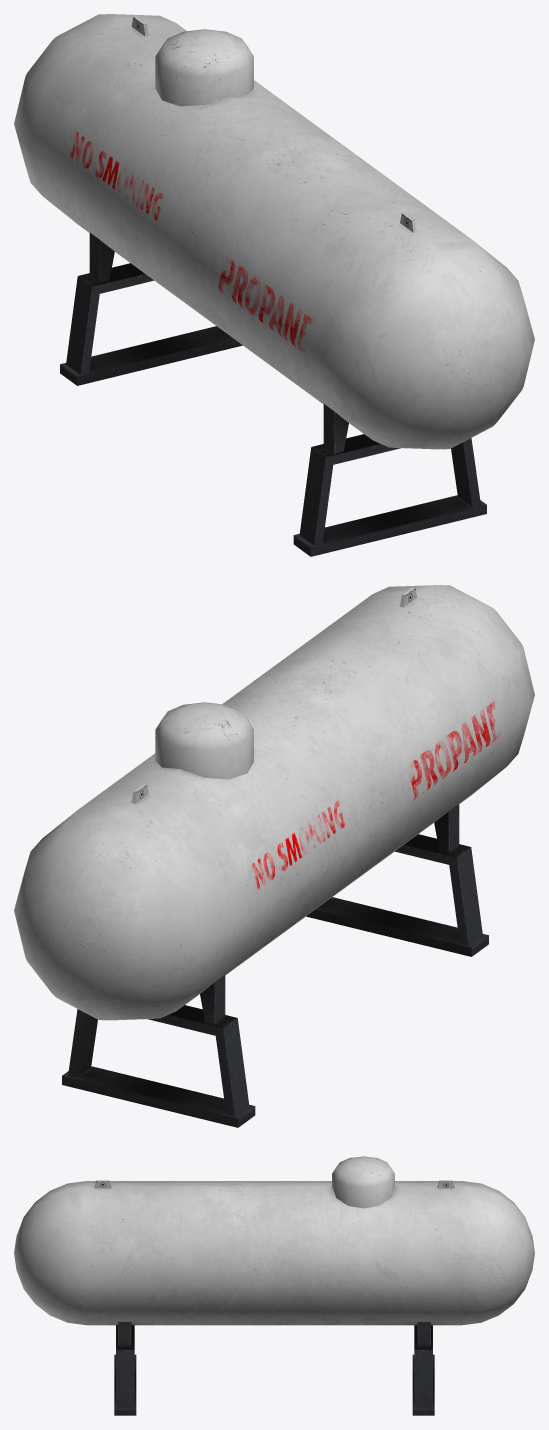
Rendered from propane_tank.glb.
The picture shows the model from 3 angles, top to bottom: view 1: azimuth 30°, elevation 25°; view 2: azimuth 150°, elevation 25°; view 3: azimuth 270°, elevation 25°; orthographic projection. The views are drawn at different scales.
Visible parts, largest first — view 1: Capsule001; view 2: Capsule001; view 3: Capsule001.
Part boxes in pixels (x1,y1,x2,y2): Capsule001: (14, 14, 534, 556); Capsule001: (14, 585, 534, 1127); Capsule001: (14, 1156, 534, 1415).
Size of the model in its own units: 1.4 by 2.41 by 5.03.
1 material, 1 textured.
